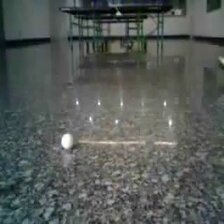w: (60, 133, 74, 150)
